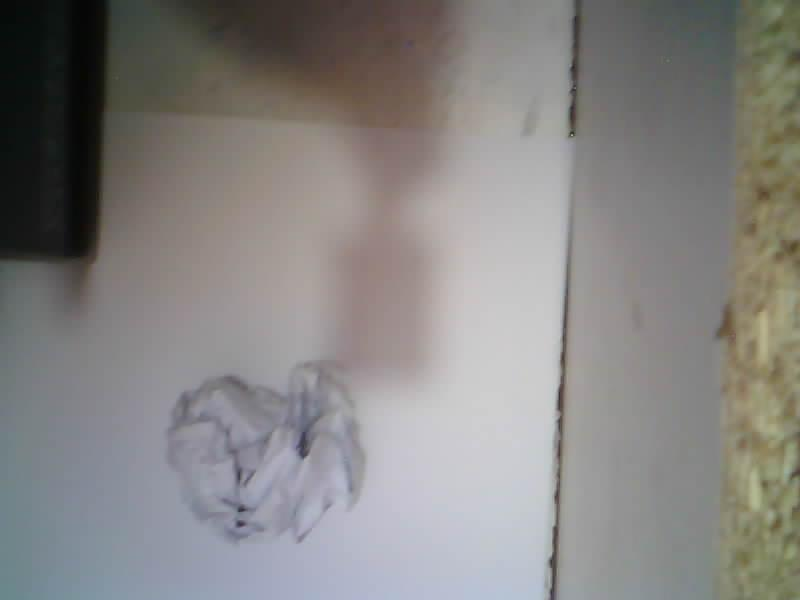biodegradable: (166, 363, 364, 543)
